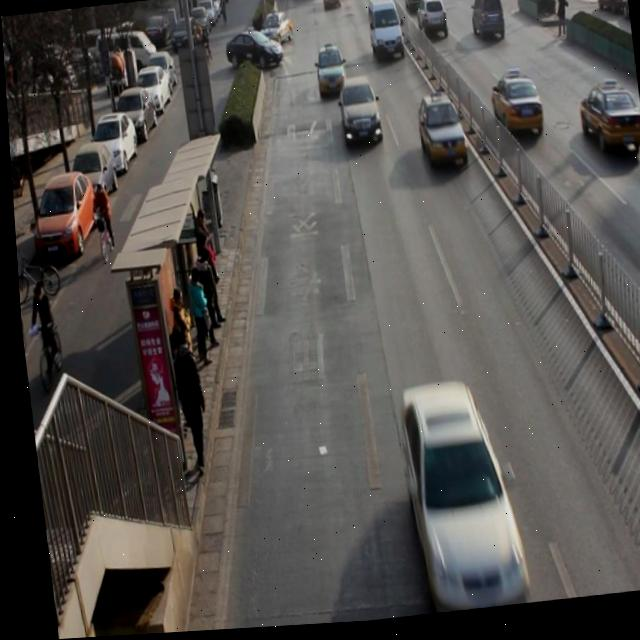car: (389, 384, 523, 618), (577, 86, 640, 170), (415, 96, 468, 178), (488, 75, 544, 144), (336, 80, 382, 155), (468, 0, 511, 52), (312, 47, 346, 96), (418, 0, 448, 43), (264, 9, 292, 50), (402, 0, 426, 15), (322, 0, 342, 14), (442, 0, 465, 0)
truck: (363, 0, 405, 69)
